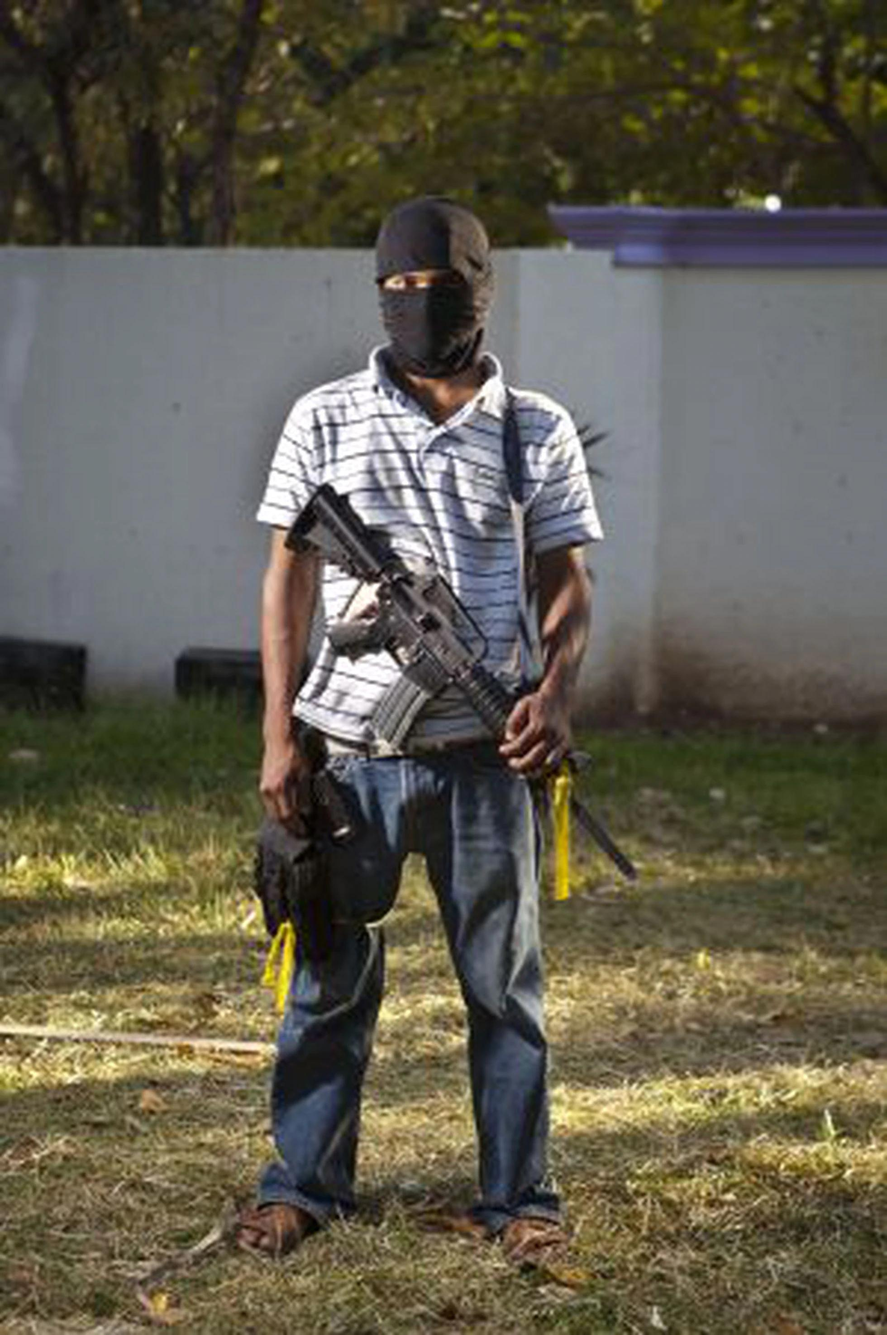larga: (284, 479, 640, 879)
